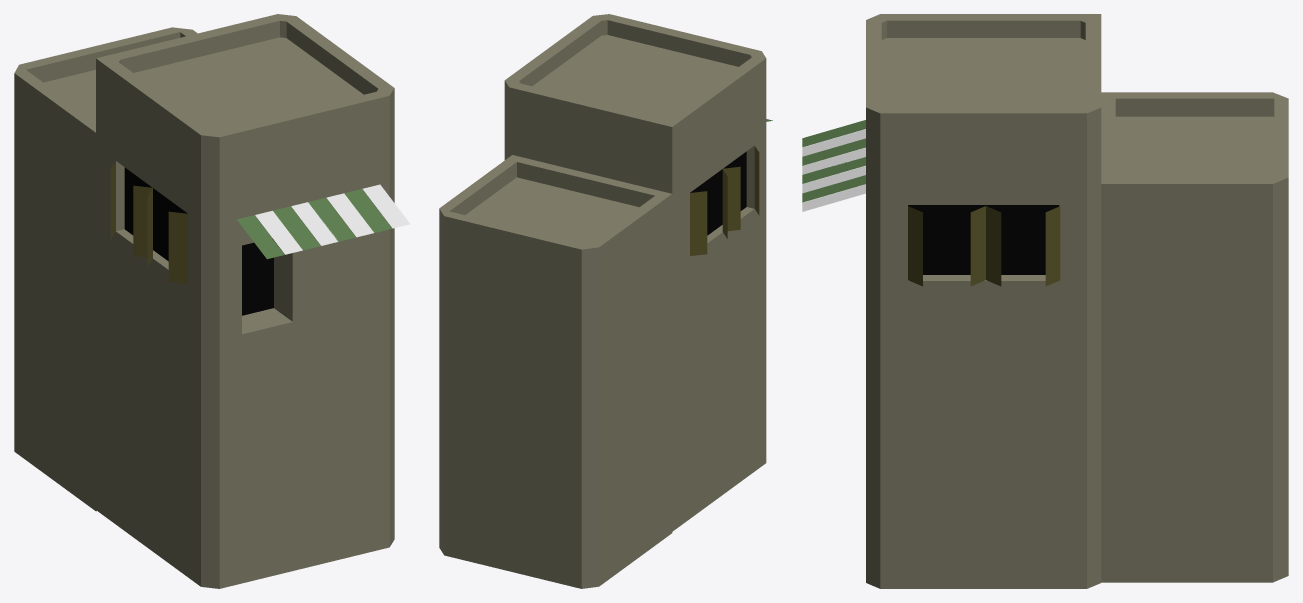
The model's file is deserthouse1.glb.
3 views of the same model, side by side, from view 1: azimuth 30°, elevation 25°; view 2: azimuth 150°, elevation 25°; view 3: azimuth 270°, elevation 25° (orthographic). The views are drawn at different scales.
Visible parts, largest first — view 1: Cube.003, Cube.004, Plane.011, Plane.012, Plane.006; view 2: Cube.003, Plane.006, Cube.004; view 3: Cube.003, Cube.004, Plane.006, Plane.011, Plane.012.
Boxes of the visible parts, x1,y1,x2,y2 form: Cube.003: (14, 14, 394, 588); Cube.004: (124, 167, 273, 315); Plane.011: (237, 189, 391, 259); Plane.012: (255, 184, 409, 254); Plane.006: (110, 161, 187, 284); Cube.003: (439, 14, 766, 588); Plane.006: (690, 146, 759, 255); Cube.004: (690, 151, 746, 235); Cube.003: (866, 14, 1288, 588); Cube.004: (908, 205, 1059, 274); Plane.006: (908, 206, 1060, 286); Plane.011: (802, 120, 865, 202); Plane.012: (802, 129, 865, 211).
Bounding box in the file's own units: 24.45 × 48.52 × 44.87.
